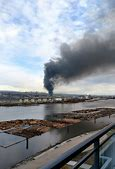smoke: (42, 32, 115, 93)
